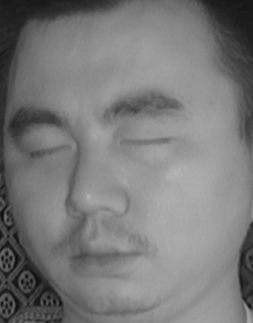blink: (120, 122, 176, 162), (21, 133, 72, 171)
mouth: (56, 224, 156, 286)
